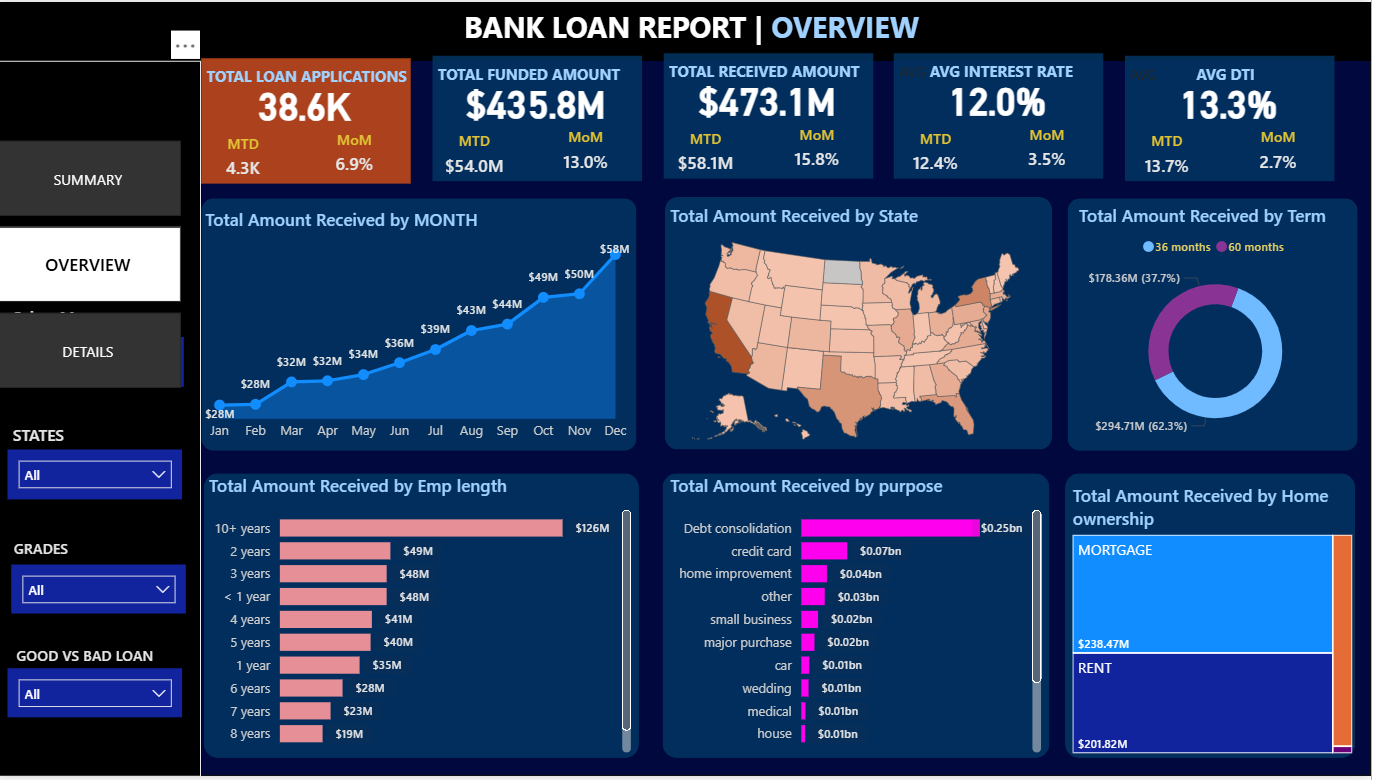

The dashboard page shown, as its layout file describes it:
{"tool":"powerbi","page":{"name":"OVERVIEW","canvas":[1280,720],"ordinal":1},"visuals":[{"type":"shape","box":[0,0,1280.3,54.9],"z":0},{"type":"shape","box":[621.5,47.7,194.9,116.6],"z":0,"group":"g3"},{"type":"shape","box":[836.3,47.7,194.9,116.6],"z":0,"group":"g4"},{"type":"shape","box":[406.7,50,194.9,116.6],"z":0,"group":"g2"},{"type":"shape","box":[1051.2,50,194.9,116.6],"z":0,"group":"g5"},{"type":"shape","box":[191.9,52.3,194.9,116.6],"z":0,"group":"g1"},{"type":"card","fields":{"Values":["Bank_Loan_Data.Total Amount Received"]},"box":[621.5,51.8,192.1,75.5],"z":1000,"group":"g3"},{"type":"card","fields":{"Values":["Bank_Loan_Data.Avg Intrest Rate"]},"box":[836.3,51.8,192.1,75.5],"z":1000,"group":"g4"},{"type":"card","fields":{"Values":["Bank_Loan_Data.Total Funded Amount"]},"box":[406.7,54.1,192.1,75.5],"z":1000,"group":"g2"},{"type":"card","fields":{"Values":["Bank_Loan_Data.Avg DTI"]},"box":[1051.2,54.1,192.1,75.5],"z":1000,"group":"g5"},{"type":"shape","box":[0,54.9,192,665.5],"z":1000},{"type":"card","fields":{"Values":["Bank_Loan_Data.TOTAL LOAN APPLICATIONS"]},"box":[191.9,56.4,192.1,75.5],"z":1000,"group":"g1"},{"type":"textbox","box":[621.5,50.4,205.8,38.4],"z":2000,"group":"g3"},{"type":"textbox","box":[836.3,50.4,205.8,38.4],"z":2000,"group":"g4"},{"type":"textbox","box":[406.7,52.7,205.8,38.4],"z":2000,"group":"g2"},{"type":"textbox","box":[1051.2,52.7,205.8,38.4],"z":2000,"group":"g5"},{"type":"textbox","box":[191.9,55,205.8,38.4],"z":2000,"group":"g1"},{"type":"shape","box":[191.9,182.6,405,235],"z":2000},{"type":"card","title":"MTD","fields":{"Values":["Bank_Loan_Data.MTD Total Amount Received"]},"box":[621.5,117.7,78.2,50.8],"z":3000,"group":"g3"},{"type":"card","title":"MTD","fields":{"Values":["Bank_Loan_Data.MTD Avg Interest Rate"]},"box":[836.3,117.7,78.2,50.8],"z":3000,"group":"g4"},{"type":"card","title":"MTD","fields":{"Values":["Bank_Loan_Data.MTD Funded Applications"]},"box":[406.7,120,78.2,50.8],"z":3000,"group":"g2"},{"type":"card","title":"MTD","fields":{"Values":["Bank_Loan_Data.MTD Avg DTI"]},"box":[1051.2,120,78.2,50.8],"z":3000,"group":"g5"},{"type":"card","title":"MTD","fields":{"Values":["Bank_Loan_Data.MTD Loan Applications"]},"box":[191.9,122.3,78.2,50.8],"z":3000,"group":"g1"},{"type":"textbox","box":[11.2,387.5,72.5,37.5],"z":3000},{"type":"card","title":"MoM","fields":{"Values":["Bank_Loan_Data.MoM Total Amount Received"]},"box":[724.4,113.6,78.2,50.8],"z":4000,"group":"g3"},{"type":"card","title":"MoM","fields":{"Values":["Bank_Loan_Data.MoM Avg Interest Rate"]},"box":[939.2,113.6,78.2,50.8],"z":4000,"group":"g4"},{"type":"card","title":"MoM","fields":{"Values":["Bank_Loan_Data.MoM Total Funded Amount"]},"box":[509.6,115.9,78.2,50.8],"z":4000,"group":"g2"},{"type":"card","title":"MoM","fields":{"Values":["Bank_Loan_Data.MoM Avg DTI"]},"box":[1154.1,115.9,78.2,50.8],"z":4000,"group":"g5"},{"type":"card","title":"MoM","fields":{"Values":["Bank_Loan_Data.MoM Loan Applications"]},"box":[294.8,118.2,78.2,50.8],"z":4000,"group":"g1"},{"type":"textbox","box":[430.9,0,517.3,52.1],"z":6000},{"type":"group","id":"g1","title":"Group 1","box":[191.9,52.3,205.8,120.9],"z":7000},{"type":"group","id":"g2","title":"Group 1","box":[406.7,50,205.8,120.9],"z":8000},{"type":"group","id":"g3","title":"Group 1","box":[621.5,47.7,205.8,120.9],"z":9000},{"type":"group","id":"g4","title":"Group 1","box":[836.3,47.7,205.8,120.9],"z":10000},{"type":"group","id":"g5","title":"Group 1","box":[1051.2,50,205.8,120.9],"z":11000},{"type":"slicer","fields":{"Values":["Bank_Loan_Data.Address_State"]},"box":[12,416.2,162.5,46.2],"z":22000},{"type":"slicer","fields":{"Values":["Bank_Loan_Data.Grade"]},"box":[15.1,523.3,162.8,45.3],"z":23000},{"type":"textbox","box":[12.5,493.8,73.8,38.8],"z":24000},{"type":"slicer","fields":{"Values":["Bank_Loan_Data.GOOD VS BAD LOAN"]},"box":[11.1,619.4,162.8,45.3],"z":25000},{"type":"textbox","box":[15,593.8,158.8,38.8],"z":26000},{"type":"areaChart","fields":{"Category":["DATE Table.MONTH"],"Y":["Bank_Loan_Data.Total Amount Received"]},"box":[191.2,191.2,405,226.2],"z":26001},{"type":"slicer","fields":{"Values":["Select Measure.Select Measure"]},"box":[11.2,311.2,163.8,46.2],"z":26002},{"type":"textbox","box":[11.2,277.5,121.2,33.8],"z":26003},{"type":"shape","box":[623.8,181.2,360,235],"z":26004},{"type":"shapeMap","fields":{"Category":["Bank_Loan_Data.Address_State"],"Value":["Bank_Loan_Data.Total Amount Received"]},"box":[623.8,187.5,355,235],"z":26005},{"type":"shape","box":[997.5,182.5,270,235],"z":26006},{"type":"donutChart","fields":{"Category":["Bank_Loan_Data.term"],"Y":["Bank_Loan_Data.Total Amount Received"]},"box":[1003.8,187.5,263.8,226.2],"z":26007},{"type":"shape","box":[193.8,438.8,405,265],"z":26008},{"type":"barChart","fields":{"Category":["Bank_Loan_Data.Emp_length"],"Y":["Bank_Loan_Data.Total Amount Received"]},"box":[193.8,438.8,402.5,265],"z":26009},{"type":"shape","box":[621.2,438.8,360,265],"z":26010},{"type":"barChart","fields":{"Category":["Bank_Loan_Data.purpose"],"Y":["Bank_Loan_Data.Total Amount Received"]},"box":[623.8,438.8,355,265],"z":26011},{"type":"shape","box":[995,438.8,270,265],"z":26012},{"type":"treemap","fields":{"Group":["Bank_Loan_Data.Home_ownership"],"Values":["Bank_Loan_Data.Total Amount Received"]},"box":[997.5,447.5,270,256.2],"z":26013},{"type":"pageNavigator","box":[0,128.8,173.8,231.2],"z":26014}]}

Visuals, with their boxes on the page's 1280x720 design canvas (x1, y1, x2, y2). These are canvas units, not pixel positions in the 1375x780 screenshot, which may show the page scaled, cropped or inside an application window:
shape: l=0, t=0, r=1280, b=55
shape: l=622, t=48, r=816, b=164
shape: l=836, t=48, r=1031, b=164
shape: l=407, t=50, r=602, b=167
shape: l=1051, t=50, r=1246, b=167
shape: l=192, t=52, r=387, b=169
card - Bank_Loan_Data.Total Amount Received: l=622, t=52, r=814, b=127
card - Bank_Loan_Data.Avg Intrest Rate: l=836, t=52, r=1028, b=127
card - Bank_Loan_Data.Total Funded Amount: l=407, t=54, r=599, b=130
card - Bank_Loan_Data.Avg DTI: l=1051, t=54, r=1243, b=130
shape: l=0, t=55, r=192, b=720
card - Bank_Loan_Data.TOTAL LOAN APPLICATIONS: l=192, t=56, r=384, b=132
textbox: l=622, t=50, r=827, b=89
textbox: l=836, t=50, r=1042, b=89
textbox: l=407, t=53, r=612, b=91
textbox: l=1051, t=53, r=1257, b=91
textbox: l=192, t=55, r=398, b=93
shape: l=192, t=183, r=597, b=418
"MTD" card: l=622, t=118, r=700, b=168
"MTD" card: l=836, t=118, r=914, b=168
"MTD" card: l=407, t=120, r=485, b=171
"MTD" card: l=1051, t=120, r=1129, b=171
"MTD" card: l=192, t=122, r=270, b=173
textbox: l=11, t=388, r=84, b=425
"MoM" card: l=724, t=114, r=803, b=164
"MoM" card: l=939, t=114, r=1017, b=164
"MoM" card: l=510, t=116, r=588, b=167
"MoM" card: l=1154, t=116, r=1232, b=167
"MoM" card: l=295, t=118, r=373, b=169
textbox: l=431, t=0, r=948, b=52
"Group 1" group: l=192, t=52, r=398, b=173
"Group 1" group: l=407, t=50, r=612, b=171
"Group 1" group: l=622, t=48, r=827, b=169
"Group 1" group: l=836, t=48, r=1042, b=169
"Group 1" group: l=1051, t=50, r=1257, b=171
slicer - Bank_Loan_Data.Address_State: l=12, t=416, r=174, b=462
slicer - Bank_Loan_Data.Grade: l=15, t=523, r=178, b=569
textbox: l=12, t=494, r=86, b=533
slicer - Bank_Loan_Data.GOOD VS BAD LOAN: l=11, t=619, r=174, b=665
textbox: l=15, t=594, r=174, b=633
areaChart - DATE Table.MONTH x Bank_Loan_Data.Total Amount Received: l=191, t=191, r=596, b=417
slicer - Select Measure.Select Measure: l=11, t=311, r=175, b=357
textbox: l=11, t=278, r=132, b=311
shape: l=624, t=181, r=984, b=416
shapeMap - Bank_Loan_Data.Address_State x Bank_Loan_Data.Total Amount Received: l=624, t=188, r=979, b=422
shape: l=998, t=182, r=1268, b=418
donutChart - Bank_Loan_Data.term x Bank_Loan_Data.Total Amount Received: l=1004, t=188, r=1268, b=414
shape: l=194, t=439, r=599, b=704
barChart - Bank_Loan_Data.Emp_length x Bank_Loan_Data.Total Amount Received: l=194, t=439, r=596, b=704
shape: l=621, t=439, r=981, b=704
barChart - Bank_Loan_Data.purpose x Bank_Loan_Data.Total Amount Received: l=624, t=439, r=979, b=704
shape: l=995, t=439, r=1265, b=704
treemap - Bank_Loan_Data.Home_ownership x Bank_Loan_Data.Total Amount Received: l=998, t=448, r=1268, b=704
pageNavigator: l=0, t=129, r=174, b=360
